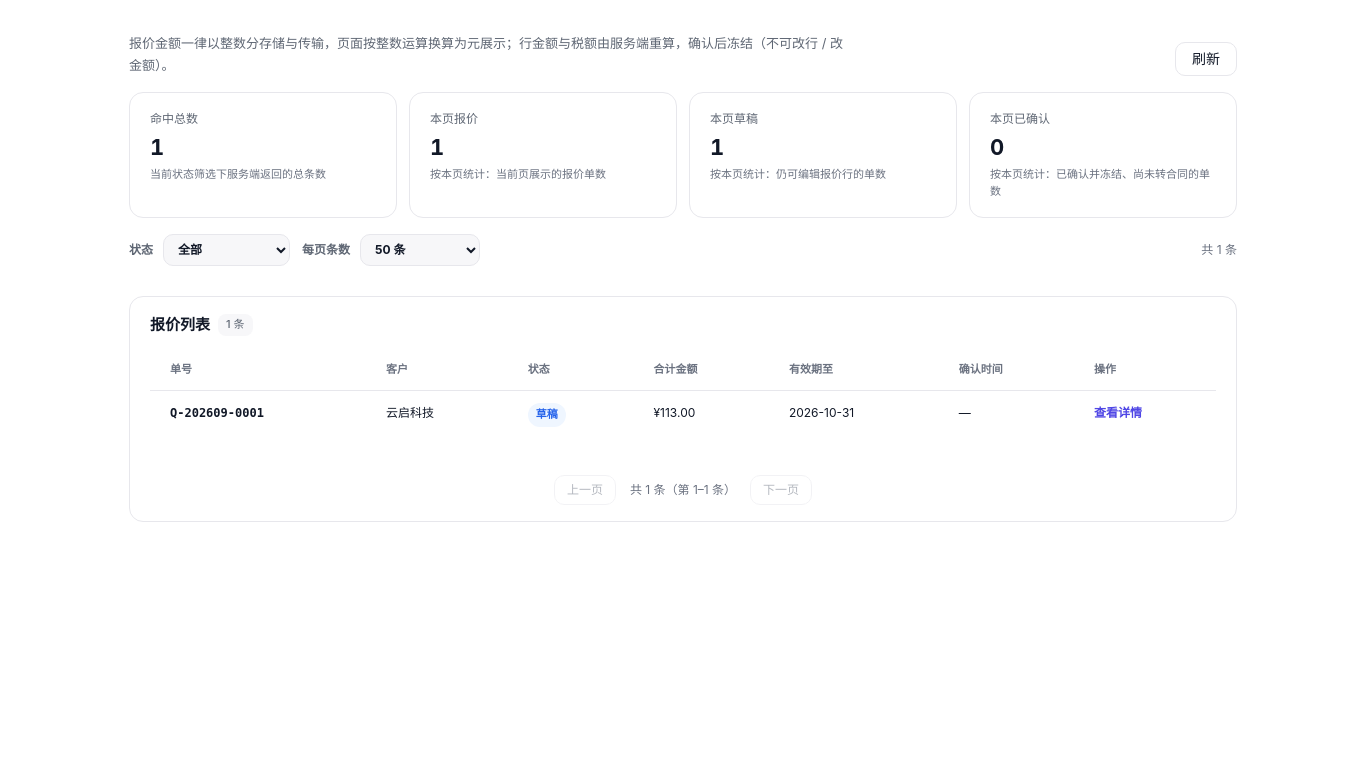
Test: CrmQuotesPage › confirms a draft quote and switches to the frozen state
The image size is (1366, 768).
Click the button "查看详情".
click(1118, 413)  # box x1=1094 y1=403 x2=1142 y2=422
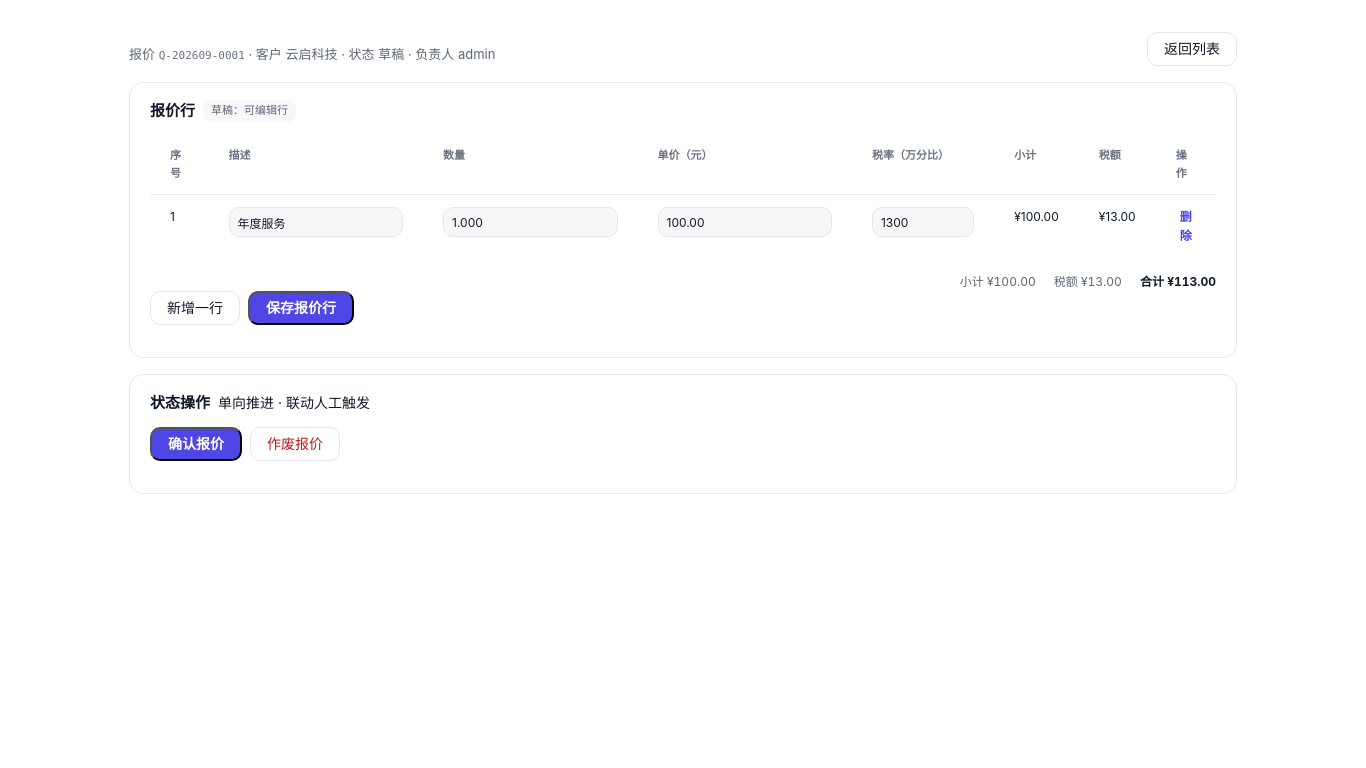
Click the button "确认报价".
click(196, 444)  # box x1=150 y1=427 x2=242 y2=461
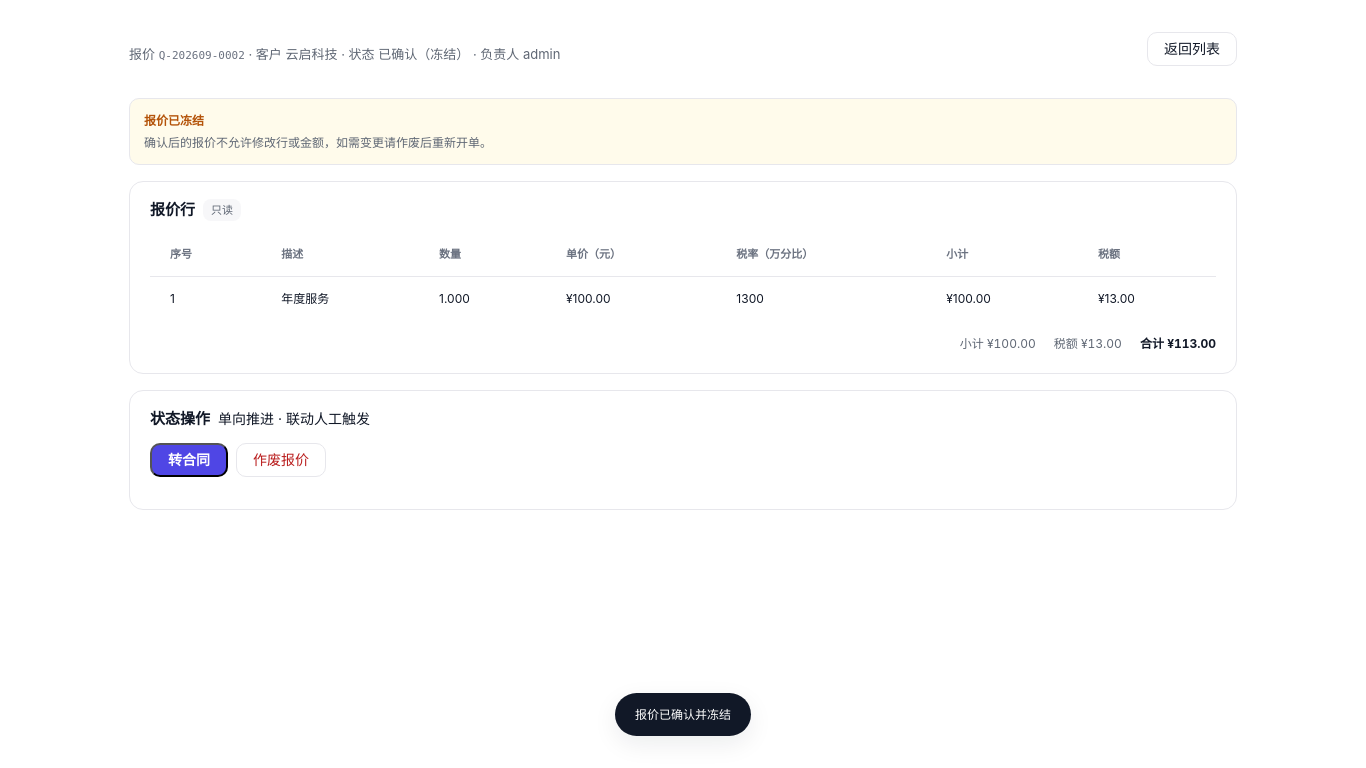
expect the text "报价已确认并冻结" is shown: met, box x1=635 y1=705 x2=731 y2=724
expect the text "报价已冻结" is shown: met, box x1=144 y1=113 x2=204 y2=128
